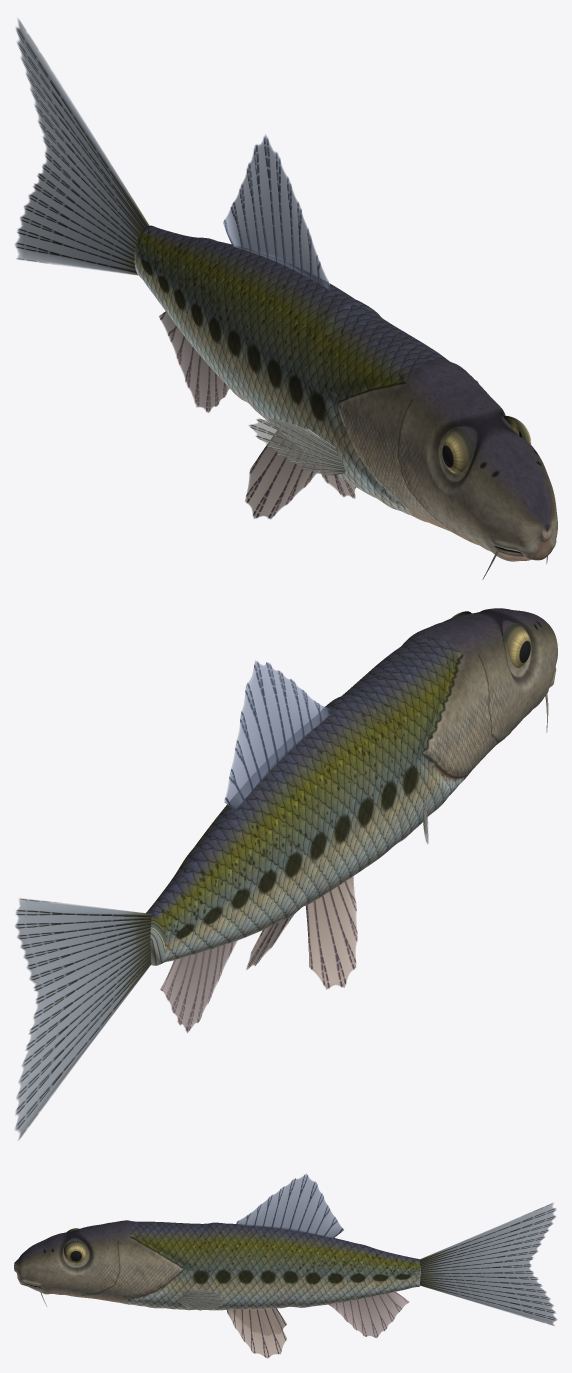
The model's file is kielb_bialoplety.glb.
3 renders of one model, top to bottom at view 1: azimuth 30°, elevation 25°; view 2: azimuth 150°, elevation 25°; view 3: azimuth 270°, elevation 25°, orthographic. The views are drawn at different scales.
Parts seen in each view (by area): view 1: Body, FinCaudal, FinDorsal1, FinPelvic, FinPectoral, FinAnal, EyeLeft; view 2: Body, FinCaudal, FinDorsal1, FinPelvic, FinAnal, EyeLeft; view 3: Body, FinCaudal, FinDorsal1, FinPelvic, FinAnal, FinPectoral, EyeRight.
Part boxes in pixels (bbox=[...]): Body: bbox=[134, 225, 557, 561]; FinCaudal: bbox=[14, 18, 149, 275]; FinDorsal1: bbox=[223, 134, 330, 289]; FinPelvic: bbox=[245, 430, 356, 519]; FinPectoral: bbox=[248, 418, 345, 475]; FinAnal: bbox=[159, 311, 229, 412]; EyeLeft: bbox=[442, 427, 473, 473]; Body: bbox=[146, 608, 557, 965]; FinCaudal: bbox=[15, 898, 151, 1140]; FinDorsal1: bbox=[224, 661, 329, 811]; FinPelvic: bbox=[246, 876, 357, 989]; FinAnal: bbox=[160, 940, 237, 1032]; EyeLeft: bbox=[503, 623, 530, 667]; Body: bbox=[14, 1220, 420, 1310]; FinCaudal: bbox=[419, 1203, 557, 1325]; FinDorsal1: bbox=[236, 1173, 343, 1238]; FinPelvic: bbox=[227, 1308, 286, 1358]; FinAnal: bbox=[328, 1292, 409, 1337]; FinPectoral: bbox=[179, 1289, 226, 1310]; EyeRight: bbox=[64, 1240, 86, 1263].
Bounding box in the file's own units: 0.1945 × 0.356 × 0.9978.
Materials: 9 (8 with a texture image).
